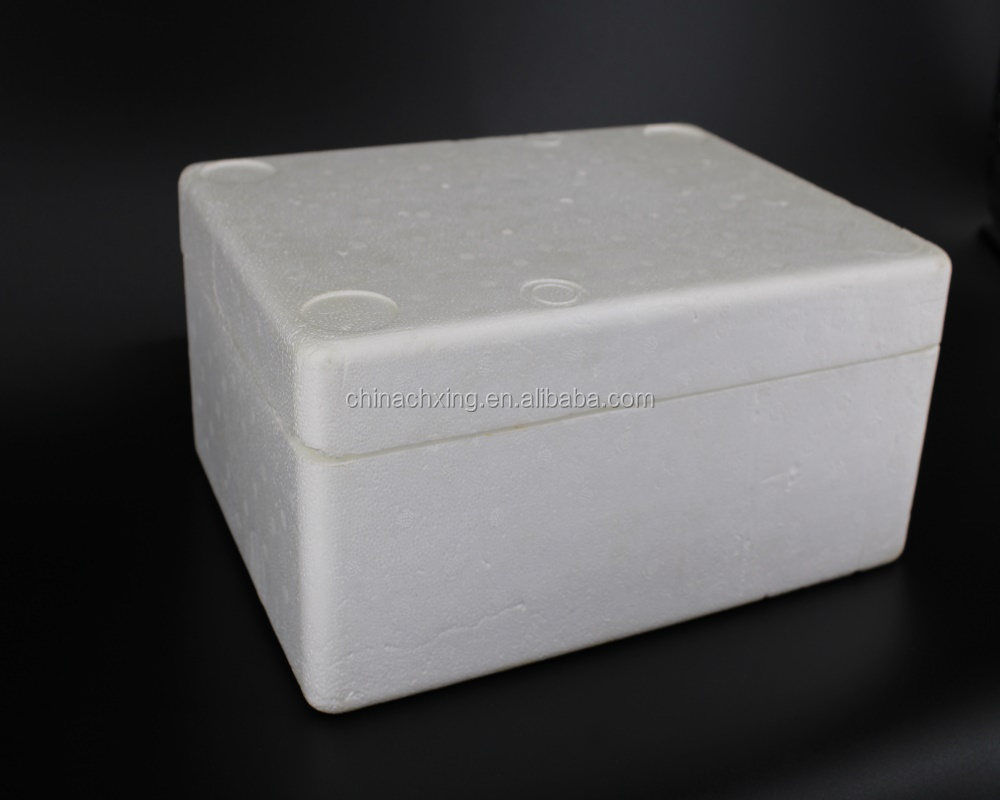Boxes: (179, 126, 950, 706)
